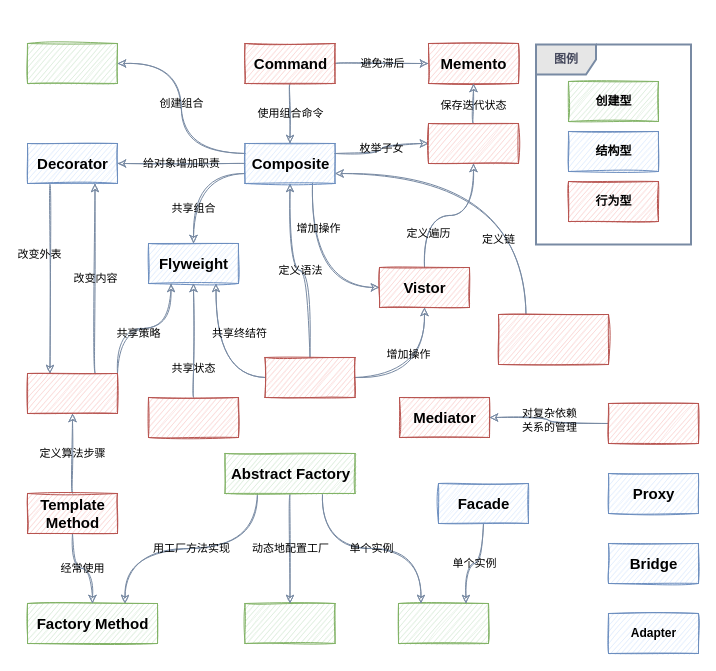
The diagram is 716 pixels wide and 671 high, and some of its shapes have lost their labels. The shapes that lost their labels are listed below. From the top down, each one's centre as x and y in pixels, then its label:
At point 72,63: "Builder".
At point 473,143: "Iterator".
At point 553,339: "Chain of Responsibility".
At point 72,393: "Strategy".
At point 309,377: "Interpreter".
At point 193,417: "State".
At point 653,423: "Observer".
At point 289,623: "Prototype".
At point 443,623: "Singleton".
